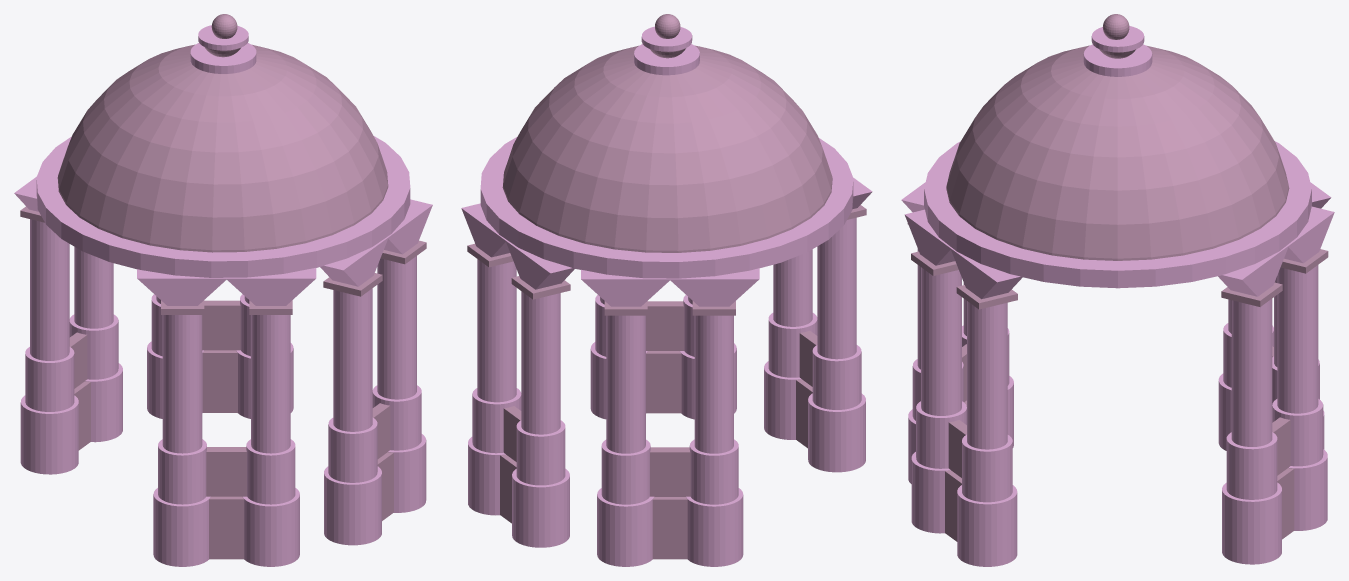
3 views of the same model, side by side, from view 1: azimuth 30°, elevation 25°; view 2: azimuth 150°, elevation 25°; view 3: azimuth 270°, elevation 25° (orthographic). The views are drawn at different scales.
Visible parts, largest first — view 1: 円柱.001, 円柱, 円柱.011, 円柱.064, 円柱.004, 円柱.059, 円柱.056, 円柱.016, 円柱.039, 円柱.010, 円柱.008, 円柱.061 (+26 smaller); view 2: 円柱.001, 円柱, 円柱.057, 円柱.056, 円柱.061, 円柱.062, 円柱.011, 円柱.017, 円柱.008, 円柱.016, 円柱.036, 円柱.004 (+26 smaller); view 3: 円柱.001, 円柱, 円柱.062, 円柱.057, 円柱.059, 円柱.064, 円柱.019, 円柱.037, 円柱.042, 円柱.029, 円柱.002, 円柱.039 (+15 smaller).
Part boxes in pixels (x1=…): 円柱.001: x1=57, y1=14, x2=388, y2=252; 円柱: x1=36, y1=136, x2=410, y2=277; 円柱.011: x1=162, y1=315, x2=202, y2=453; 円柱.064: x1=333, y1=288, x2=372, y2=431; 円柱.004: x1=251, y1=315, x2=290, y2=453; 円柱.059: x1=377, y1=256, x2=416, y2=399; 円柱.056: x1=30, y1=219, x2=69, y2=360; 円柱.016: x1=20, y1=395, x2=78, y2=474; 円柱.039: x1=324, y1=466, x2=381, y2=545; 円柱.010: x1=242, y1=488, x2=299, y2=566; 円柱.008: x1=153, y1=488, x2=210, y2=566; 円柱.061: x1=74, y1=247, x2=113, y2=328; 円柱.001: x1=502, y1=14, x2=832, y2=252; 円柱: x1=480, y1=136, x2=853, y2=278; 円柱.057: x1=521, y1=291, x2=560, y2=434; 円柱.056: x1=694, y1=315, x2=733, y2=453; 円柱.061: x1=606, y1=315, x2=645, y2=453; 円柱.062: x1=477, y1=259, x2=516, y2=402; 円柱.011: x1=817, y1=217, x2=856, y2=359; 円柱.017: x1=512, y1=468, x2=569, y2=547; 円柱.008: x1=808, y1=393, x2=865, y2=472; 円柱.016: x1=686, y1=488, x2=743, y2=566; 円柱.036: x1=597, y1=488, x2=654, y2=566; 円柱.004: x1=773, y1=249, x2=812, y2=326; 円柱.001: x1=946, y1=14, x2=1289, y2=260; 円柱: x1=924, y1=141, x2=1311, y2=288; 円柱.062: x1=1231, y1=298, x2=1272, y2=446; 円柱.057: x1=1277, y1=265, x2=1318, y2=413; 円柱.059: x1=967, y1=301, x2=1007, y2=449; 円柱.064: x1=921, y1=267, x2=961, y2=415; 円柱.019: x1=957, y1=485, x2=1017, y2=566; 円柱.037: x1=1222, y1=482, x2=1281, y2=564; 円柱.042: x1=1226, y1=432, x2=1277, y2=499; 円柱.029: x1=962, y1=434, x2=1012, y2=502; 円柱.002: x1=1083, y1=26, x2=1152, y2=76; 円柱.039: x1=911, y1=452, x2=950, y2=533.
Bounding box in the file's own units: 2.6 × 3.57 × 2.91.
